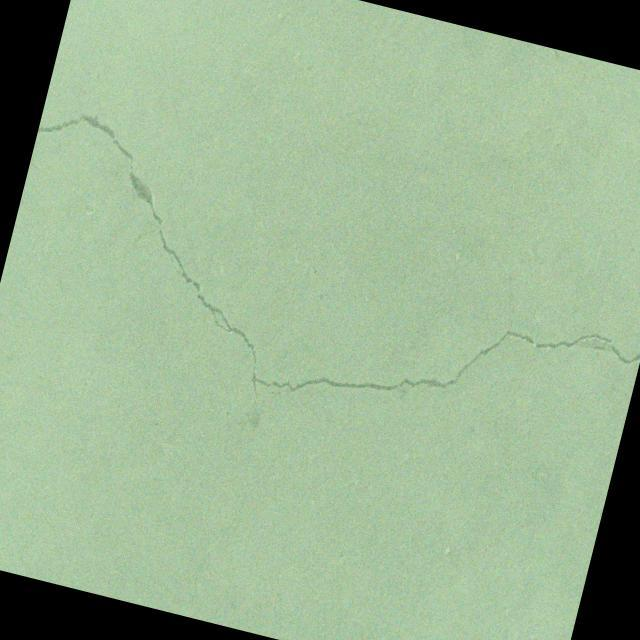crack: (0, 101, 640, 558), (184, 488, 247, 623)
